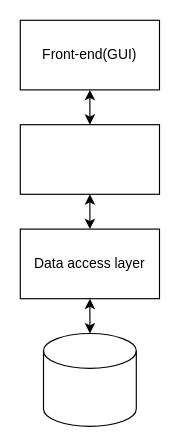
Image size: 180x447. Some labels were removed from this diagram. Here are the shapes that lost their labels. From the top down, the centre of each, then its label:
At (89,159): "Business layer".
At (89,379): "Data base".
